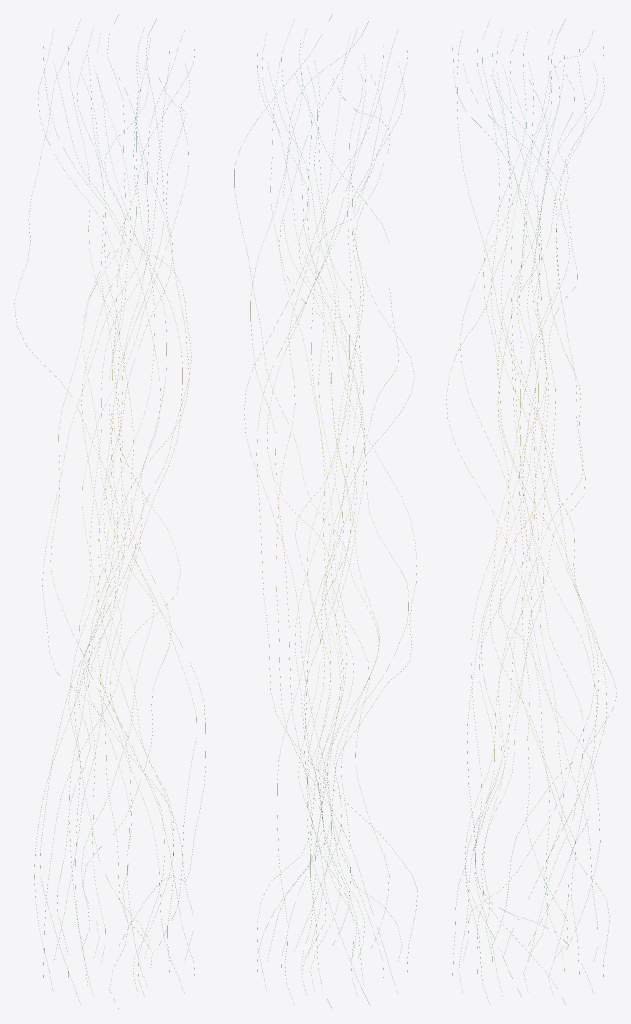
Rendered from SM_DarklineForSpline_5.FBX.
The picture shows the model from 3 angles, left to right: view 1: azimuth 30°, elevation 25°; view 2: azimuth 150°, elevation 25°; view 3: azimuth 270°, elevation 25°; orthographic projection.
Parts seen in each view (by area): view 1: SM_DarklineForSpline_5; view 2: SM_DarklineForSpline_5; view 3: SM_DarklineForSpline_5.
Part boxes in pixels (x1,y1,x2,y2): SM_DarklineForSpline_5: (14, 15, 205, 1008); SM_DarklineForSpline_5: (234, 14, 417, 1007); SM_DarklineForSpline_5: (446, 32, 616, 988).
Size of the model in its own units: 37.76 by 33.16 by 200.
